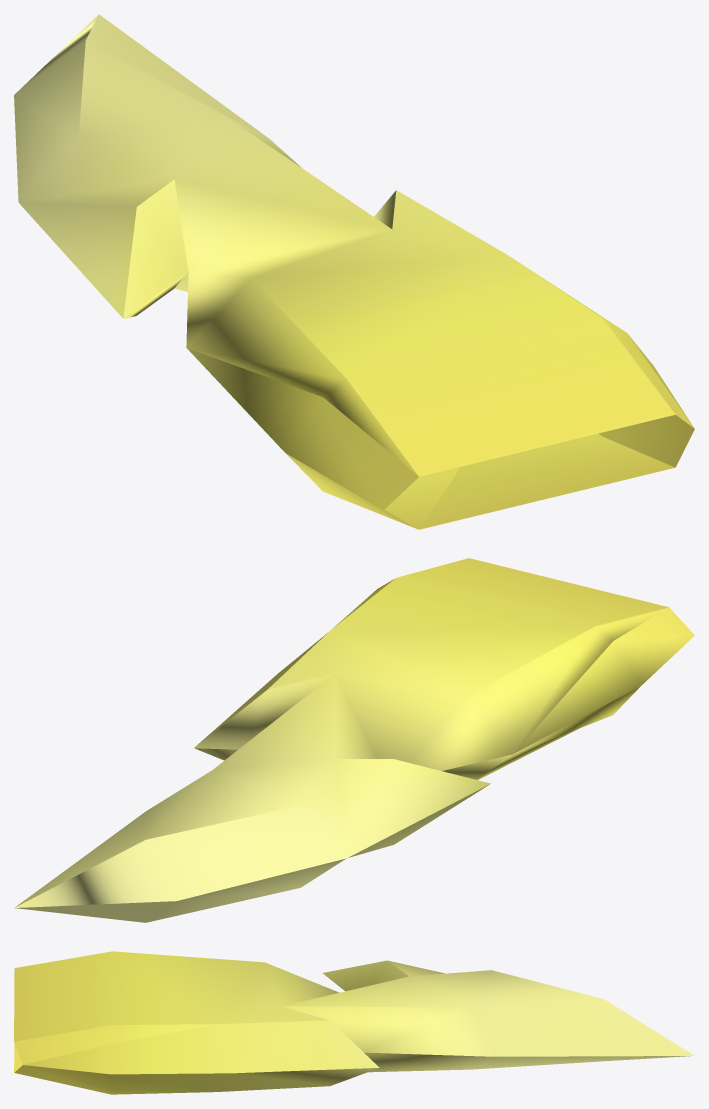
File: sword.fbx
3 views of the same model, one above another, from view 1: azimuth 30°, elevation 25°; view 2: azimuth 150°, elevation 25°; view 3: azimuth 270°, elevation 25° (orthographic). The views are drawn at different scales.
Parts seen in each view (by area): view 1: ND_Leilongqi_01; view 2: ND_Leilongqi_01; view 3: ND_Leilongqi_01.
Boxes of the visible parts, bbox=[...] form: ND_Leilongqi_01: bbox=[14, 14, 694, 529]; ND_Leilongqi_01: bbox=[14, 558, 694, 922]; ND_Leilongqi_01: bbox=[14, 951, 694, 1094].
Bounding box in the file's own units: 5168 × 1665 × 14164.
